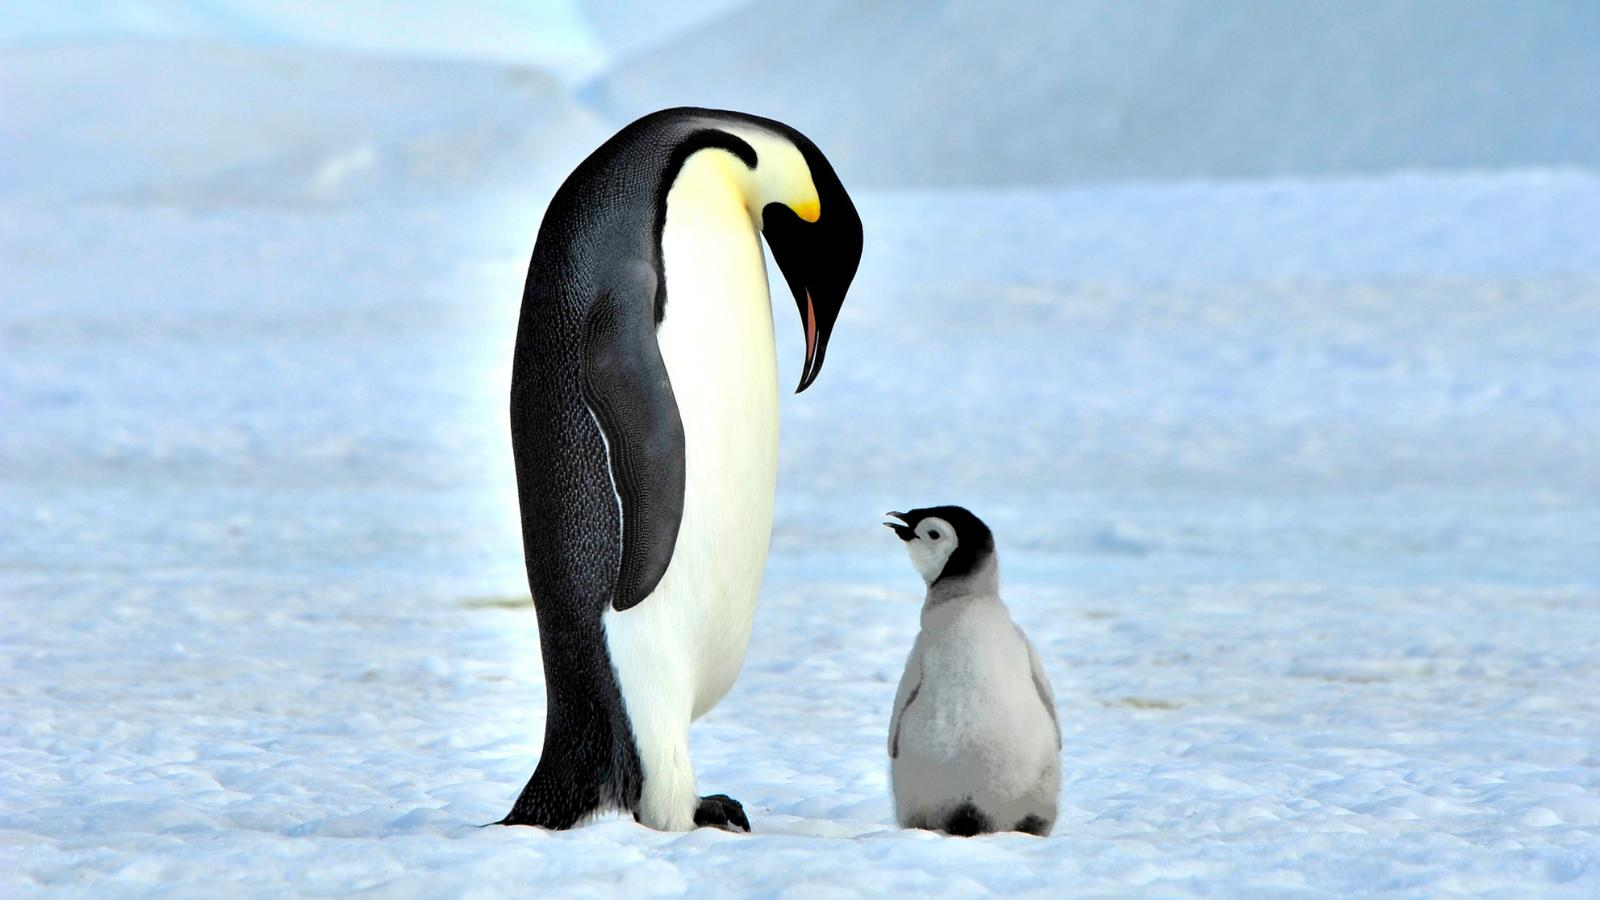emporer: (475, 78, 903, 862)
